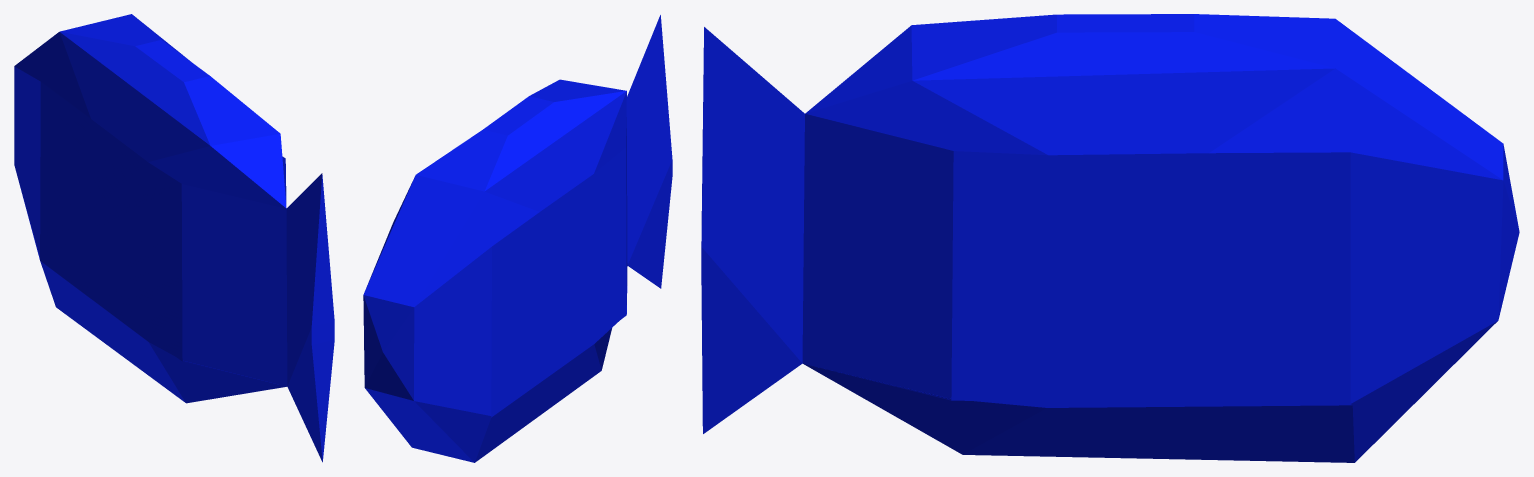
File: fish2.obj
3 views of the same model, side by side, from view 1: azimuth 30°, elevation 25°; view 2: azimuth 150°, elevation 25°; view 3: azimuth 270°, elevation 25° (orthographic). The views are drawn at different scales.
Visible parts, largest first — view 1: Cube; view 2: Cube; view 3: Cube.
Boxes of the visible parts, left/top/right/bottom form: Cube: left=14, top=14, right=334, bottom=462; Cube: left=363, top=15, right=672, bottom=462; Cube: left=701, top=14, right=1519, bottom=462.
Size of the model in its own units: 0.6204 by 1.7 by 3.
